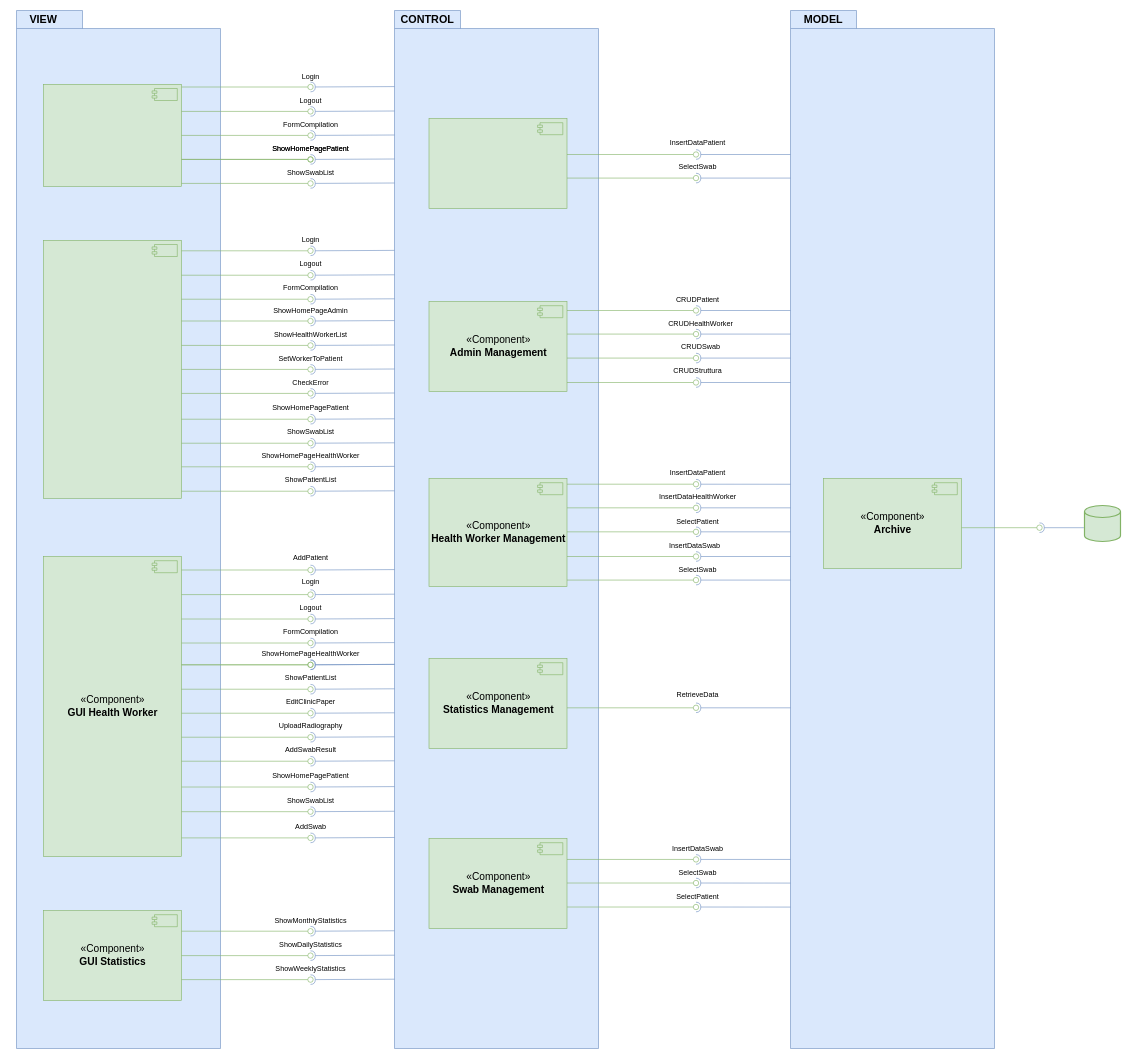
The diagram is 1131 pixels wide and 1059 high, and some of its shapes have lost their labels. Each missing label, with the box of its shape:
«Component» GUI Admin: (43, 240, 182, 498)
«Component» GUI Patient: (43, 84, 182, 186)
«Component» Patient Management: (428, 118, 567, 208)
